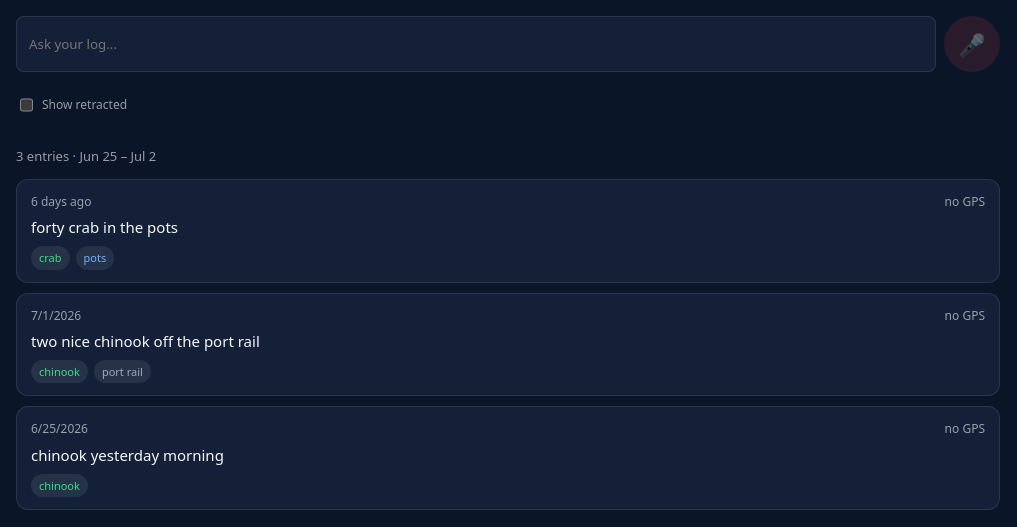
Scenario: TimelineScreen ask-to-timeline wiring › typing a species query shows the interpretation chip and filters the timeline
Type "chinook" into the search field labelled "Ask your log" at (476, 44), box [16,16,936,72]
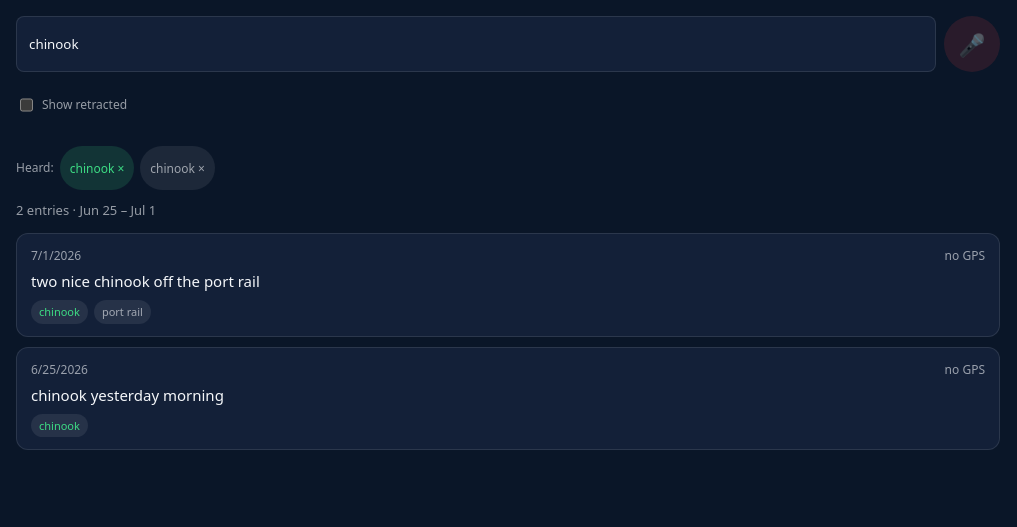
Now the text "Heard:" is shown, box [16,158,54,178]
Now the number of buttons named "Remove chinook" is 2, box [60,146,134,190]; [140,146,215,190]
Now the link "forty crab" is gone
